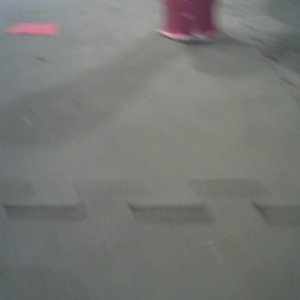right: (160, 1, 221, 42)
